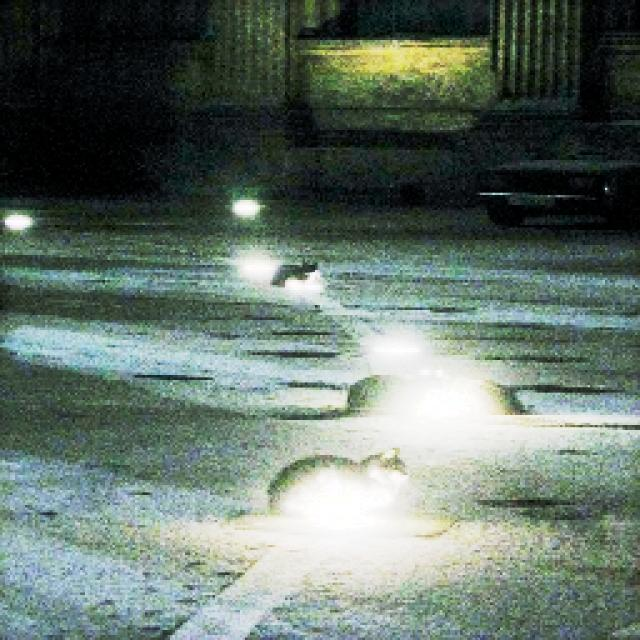cat: (270, 430, 412, 552), (253, 248, 341, 306)
